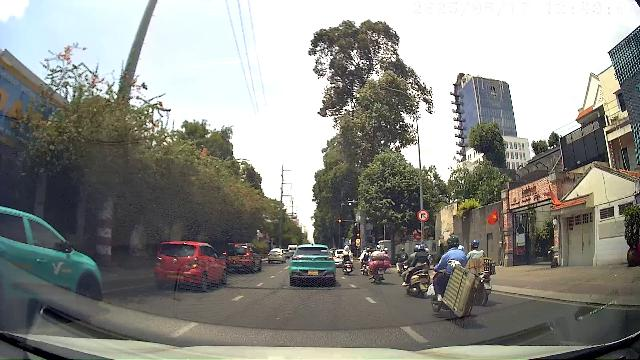123b-cam-re-phai: (418, 209, 428, 221)
